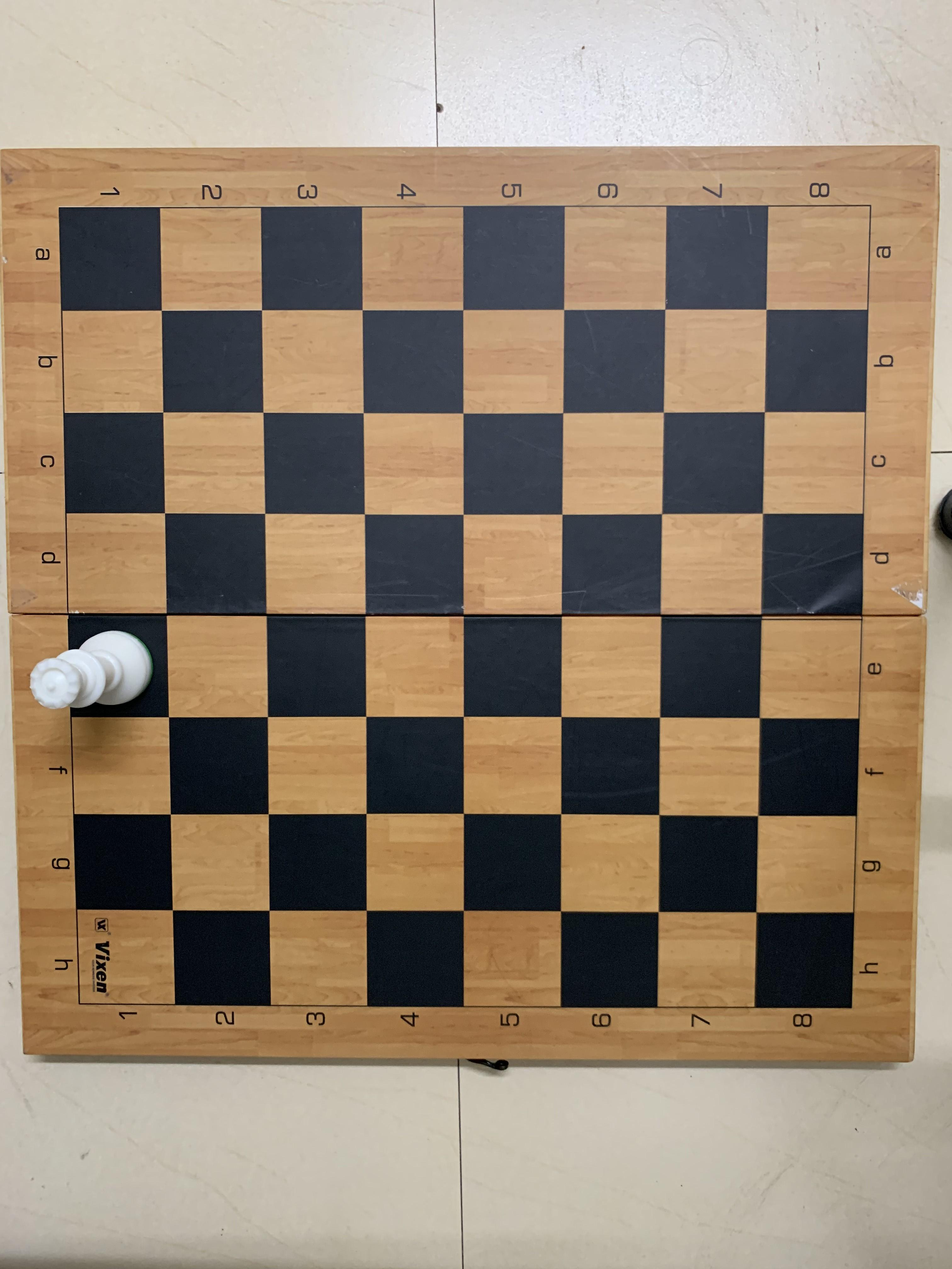white_queen: (28, 611, 168, 717)
